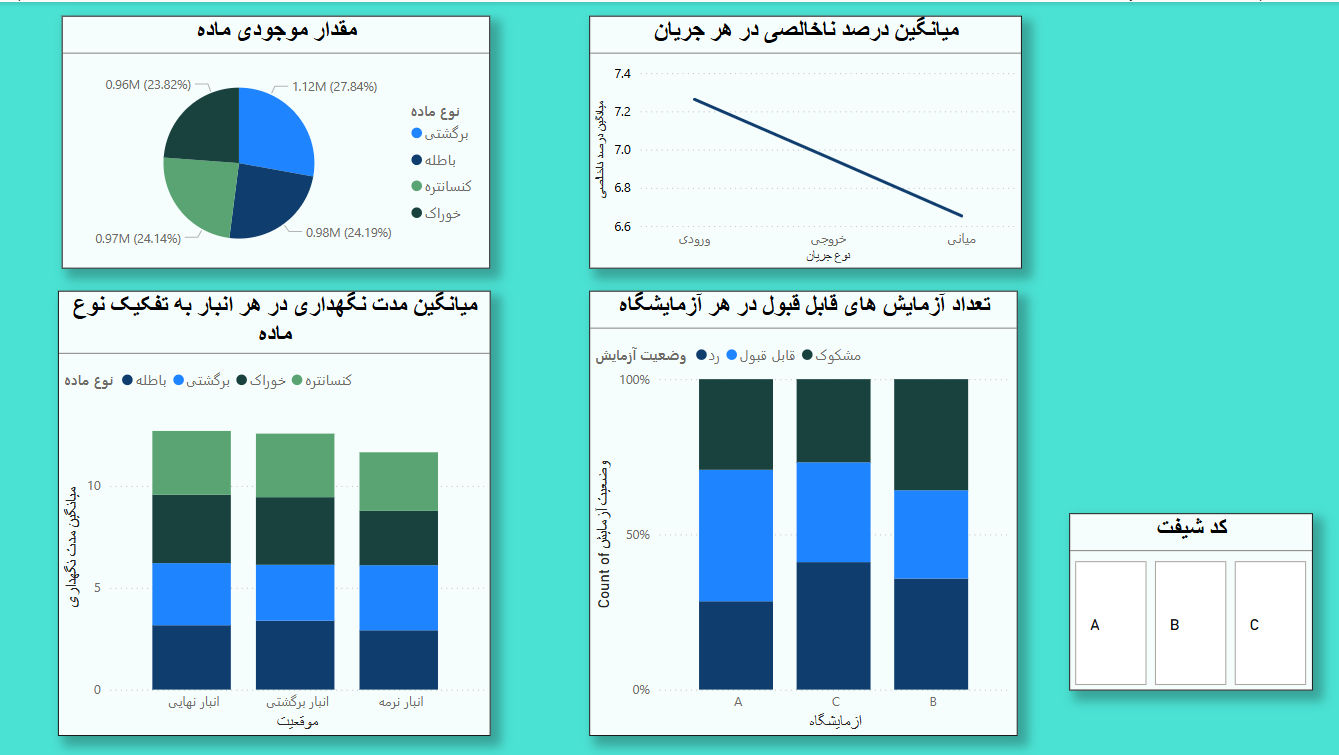

This screenshot's page, from the dashboard's own definition file:
{"tool":"powerbi","page":{"name":"مدیر انبار ","canvas":[1280,720],"ordinal":1},"visuals":[{"type":"pieChart","title":"مقدار موجودی ماده ","fields":{"Y":["موجودی انبار.مقدار موجودی"],"Category":["موجودی انبار.نوع ماده"]},"box":[60.7,13.1,408.3,240.5],"z":0},{"type":"hundredPercentStackedColumnChart","title":"تعداد آزمایش های قابل قبول در هر آزمایشگاه ","fields":{"Category":["تحلیل شیمیایی.ازمایشگاه"],"Y":["CountNonNull(تحلیل شیمیایی.وضعیت آزمایش)"],"Series":["تحلیل شیمیایی.وضعیت آزمایش"]},"box":[563.1,275,408.3,423.8],"z":1000},{"type":"advancedSlicerVisual","fields":{"Values":["گزارش شیفت.کد شیفت"]},"box":[1020.2,486.9,232.1,169],"z":2000},{"type":"lineChart","title":"میانگین درصد ناخالصی در هر جریان ","fields":{"Category":["جریان محصول.نوع جریان"],"Y":["جریان محصول.میانگین درصد ناخالصی"]},"box":[563.1,13.1,411.9,240.5],"z":3000},{"type":"columnChart","title":"میانگین مدت نگهداری در هر انبار به تفکیک نوع ماده","fields":{"Y":["موجودی انبار.میانگین مدت نگهداری"],"Category":["موجودی انبار.موقعیت"],"Series":["موجودی انبار.نوع ماده"]},"box":[57.1,275,411.9,423.8],"z":4000}]}

Visuals, with their boxes in screenshot pixels (x1, y1, x2, y2), scaled from the page's 1280x720 canvas onto the 1339x755 screenshot:
"مقدار موجودی ماده " pieChart: bbox=(63, 14, 491, 266)
"تعداد آزمایش های قابل قبول در هر آزمایشگاه " hundredPercentStackedColumnChart: bbox=(589, 288, 1016, 733)
advancedSlicerVisual - گزارش شیفت.کد شیفت: bbox=(1067, 511, 1310, 688)
"میانگین درصد ناخالصی در هر جریان " lineChart: bbox=(589, 14, 1020, 266)
"میانگین مدت نگهداری در هر انبار به تفکیک نوع ماده" columnChart: bbox=(60, 288, 491, 733)
